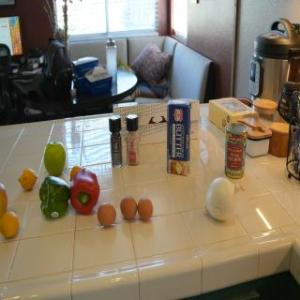bell_pepper: (35, 173, 72, 221), (69, 166, 103, 212)
egg: (97, 200, 117, 228), (118, 194, 138, 220), (136, 196, 154, 222)
onion: (203, 175, 243, 223)
